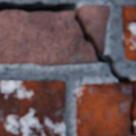brick: (0, 81, 64, 135), (121, 6, 135, 61)
broken_brick: (0, 10, 96, 65), (75, 82, 130, 135), (77, 5, 108, 53), (131, 89, 135, 129)
crack: (0, 1, 135, 135)
